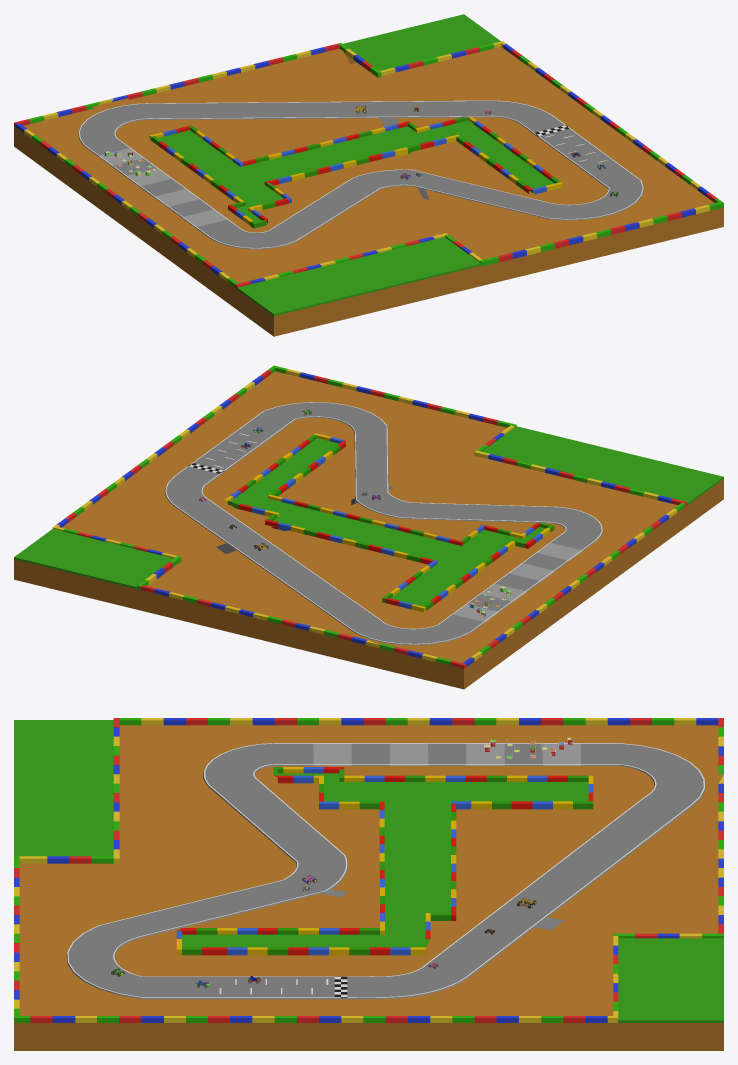
File: track.glb
The picture shows the model from 3 angles, top to bottom: view 1: azimuth 30°, elevation 25°; view 2: azimuth 150°, elevation 25°; view 3: azimuth 270°, elevation 25°; orthographic projection. The views are drawn at different scales.
Size of the model in its own units: 24.65 by 1.41 by 24.65.
